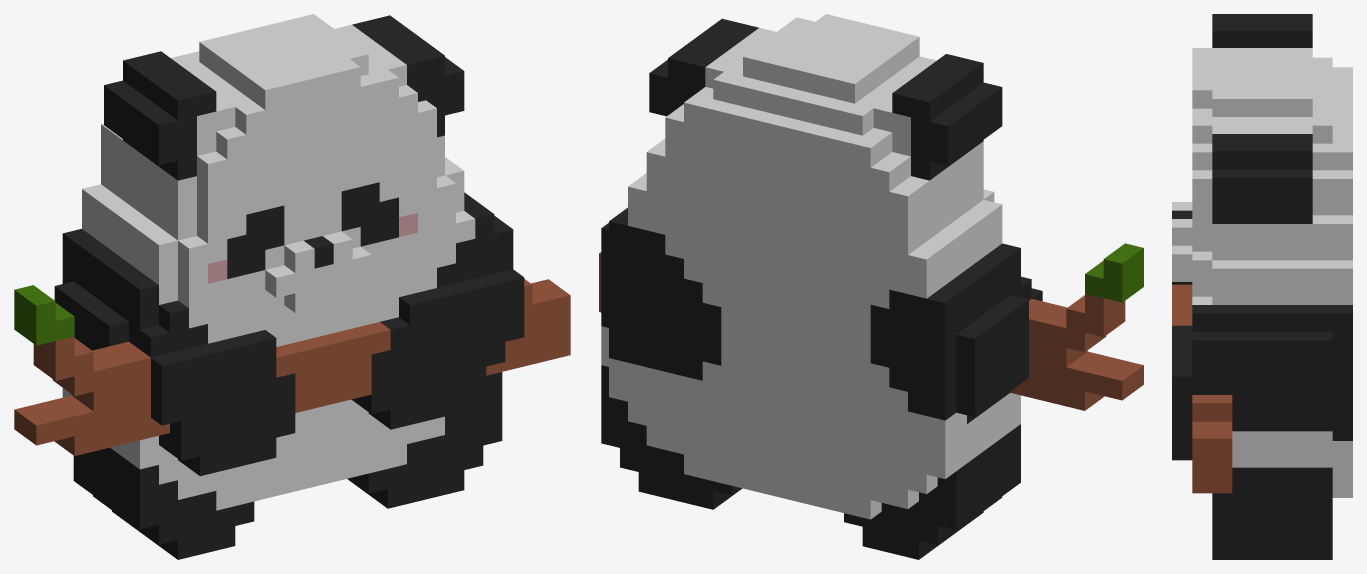
Rendered from lv43 panda.fbx.
3 views of the same model, side by side, from view 1: azimuth 30°, elevation 25°; view 2: azimuth 150°, elevation 25°; view 3: azimuth 270°, elevation 25° (orthographic). The views are drawn at different scales.
Visible parts, largest first — view 1: pCube5912, pCube6024, pCube8098, pCube6003, pCube6014, pCube8101, pCube5931, pCube6011, pCube8135, pCube5253, pCube6066, pCube5407 (+6 smaller); view 2: pCube9879, pCube9647, pCube9404, pCube9852, pCube5711, pCube9489, pCube9492, pCube9636, pCube9849, pCube5717, pCube9896, pCube10052; view 3: pCube8616, pCube5272, pCube5914, pCube5945, pCube5980, pCube8403, pCube8997, pCube9523, pCube10016, pCube10059, pCube5269, pCube5287 (+149 smaller).
Boxes of the visible parts, x1,y1,x2,y2 form: pCube5912: (265, 265, 295, 297); pCube6024: (254, 77, 284, 109); pCube8098: (25, 293, 55, 325); pCube6003: (197, 151, 227, 183); pCube6014: (216, 127, 246, 159); pCube8101: (25, 413, 55, 445); pCube5931: (284, 240, 314, 273); pCube6011: (235, 102, 265, 134); pCube8135: (98, 313, 128, 345); pCube5253: (167, 88, 196, 120); pCube6066: (151, 353, 180, 385); pCube5407: (129, 277, 158, 309); pCube9879: (870, 160, 900, 191); pCube9647: (926, 291, 956, 322); pCube9404: (836, 71, 865, 103); pCube9852: (852, 136, 881, 167); pCube5711: (1103, 368, 1132, 400); pCube9489: (911, 90, 940, 121); pCube9492: (929, 114, 958, 145); pCube9636: (908, 247, 937, 278); pCube9849: (844, 104, 873, 135); pCube5717: (1103, 251, 1132, 282); pCube9896: (889, 184, 918, 215); pCube10052: (956, 326, 985, 358); pCube8616: (1252, 142, 1272, 169); pCube5272: (1212, 142, 1232, 169); pCube5914: (1172, 245, 1192, 272); pCube5945: (1192, 251, 1212, 278); pCube5980: (1192, 143, 1212, 170); pCube8403: (1232, 142, 1252, 169); pCube8997: (1272, 142, 1292, 169); pCube9523: (1292, 142, 1312, 169); pCube10016: (1332, 143, 1352, 170); pCube10059: (1312, 143, 1332, 170); pCube5269: (1212, 90, 1232, 116); pCube5287: (1212, 169, 1232, 195).
Bounding box in the file's own units: 28 × 23 × 9.
